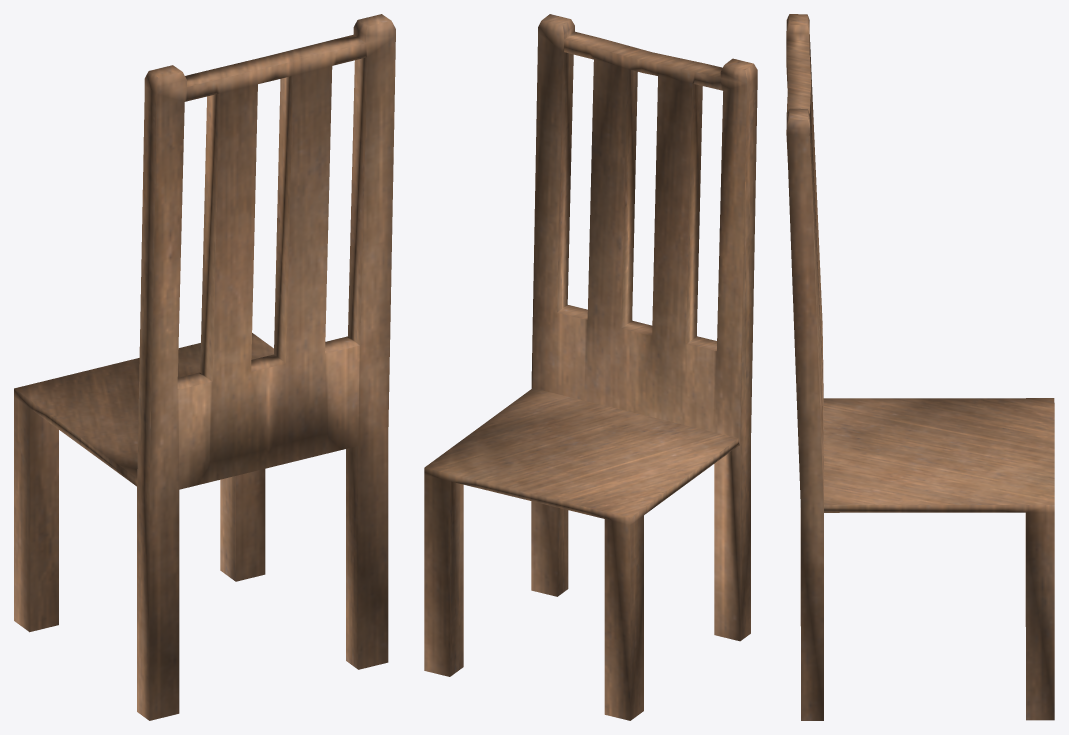
Rendered from chair.obj.
The picture shows the model from 3 angles, left to right: view 1: azimuth 30°, elevation 25°; view 2: azimuth 150°, elevation 25°; view 3: azimuth 270°, elevation 25°; orthographic projection. The views are drawn at different scales.
Parts seen in each view (by area): view 1: Cube.016; view 2: Cube.016; view 3: Cube.016.
Boxes of the visible parts, x1,y1,x2,y2 form: Cube.016: (14,14,395,720); Cube.016: (424,14,757,720); Cube.016: (786,14,1054,720).
Size of the model in its own units: 0.5018 by 1.3 by 0.5265.
1 material, 1 textured.
